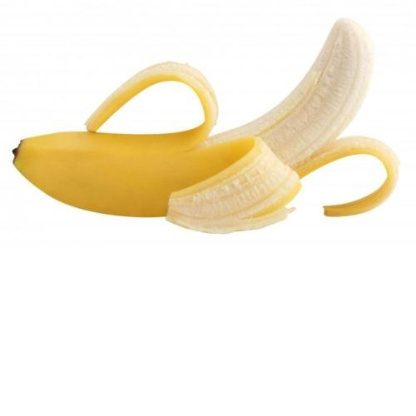chuoi: (12, 59, 382, 223)
